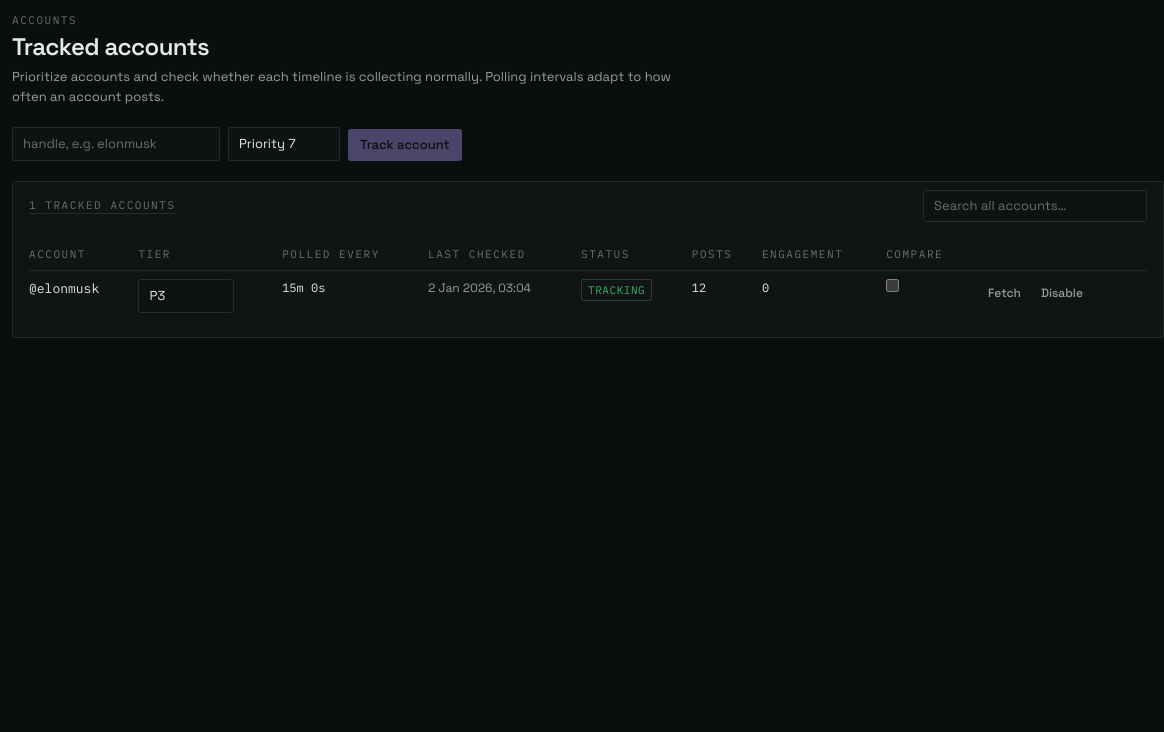
Scenario: comparison tray › removes the account again when unchecked
Click the checkbox named "Compare @elonmusk" at (893, 286), box top-left (886, 279), bottom-right (899, 292)
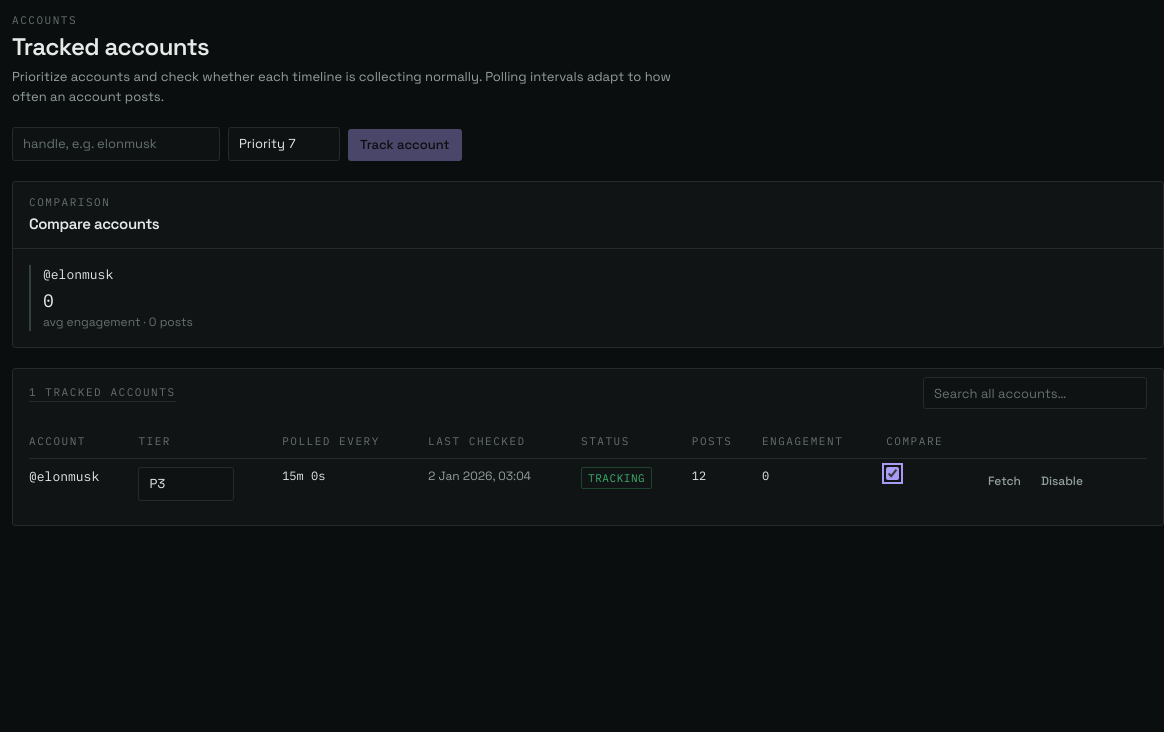
Result: the heading "Compare accounts" is shown at top-left (29, 212), bottom-right (159, 236)
Click the checkbox named "Compare @elonmusk" at (893, 473), box top-left (886, 466), bottom-right (899, 480)
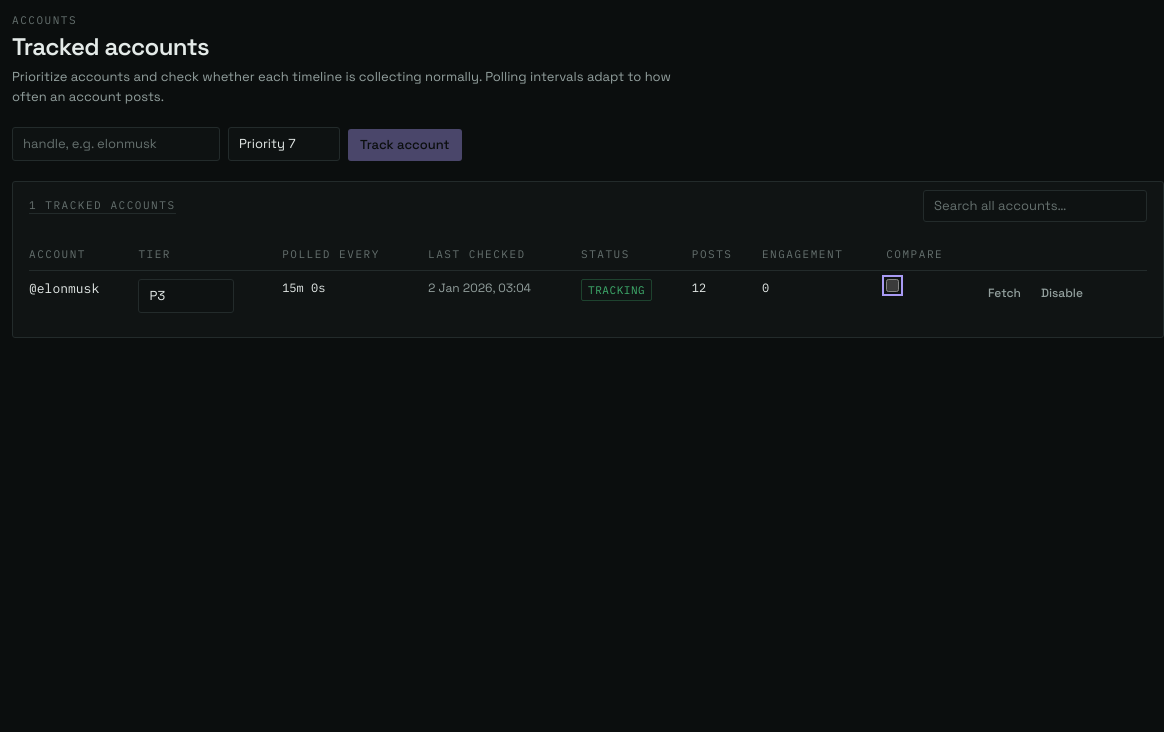
Result: the heading "Compare accounts" is gone
